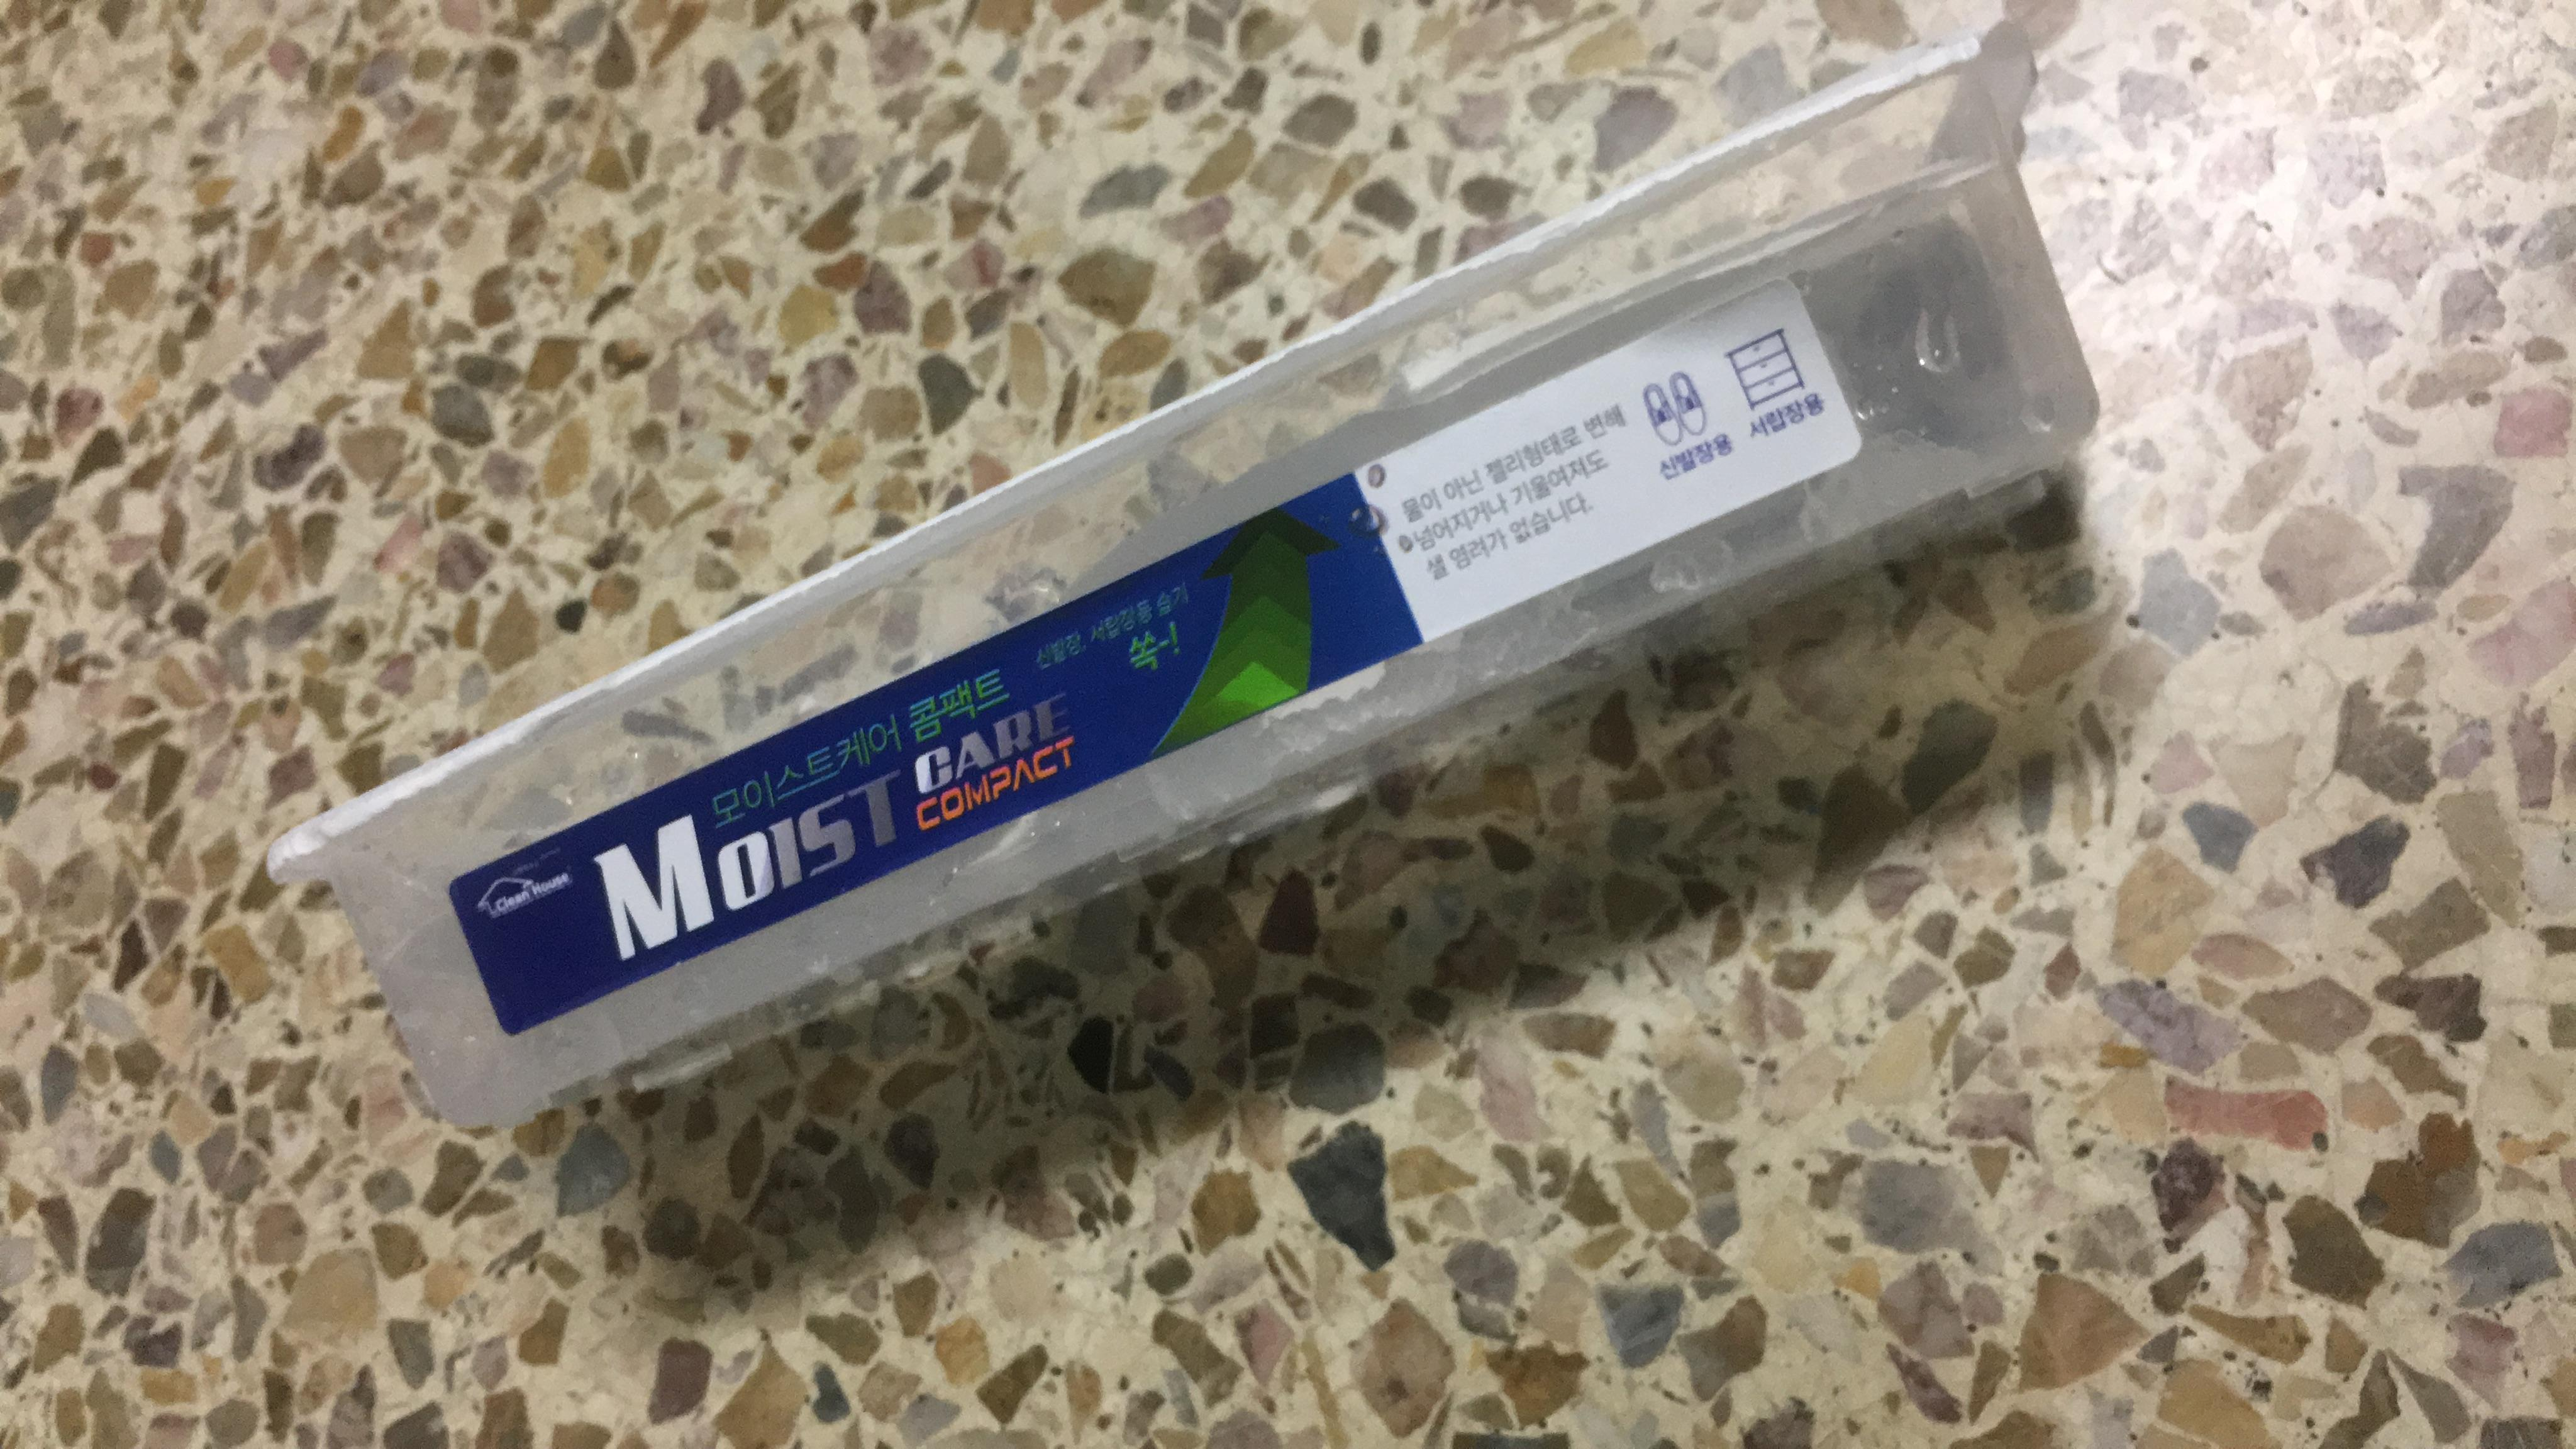bottle: (1426, 133, 1527, 1177)
